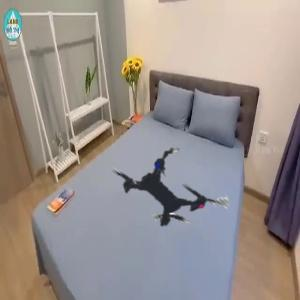drone: (79, 102, 259, 282)
